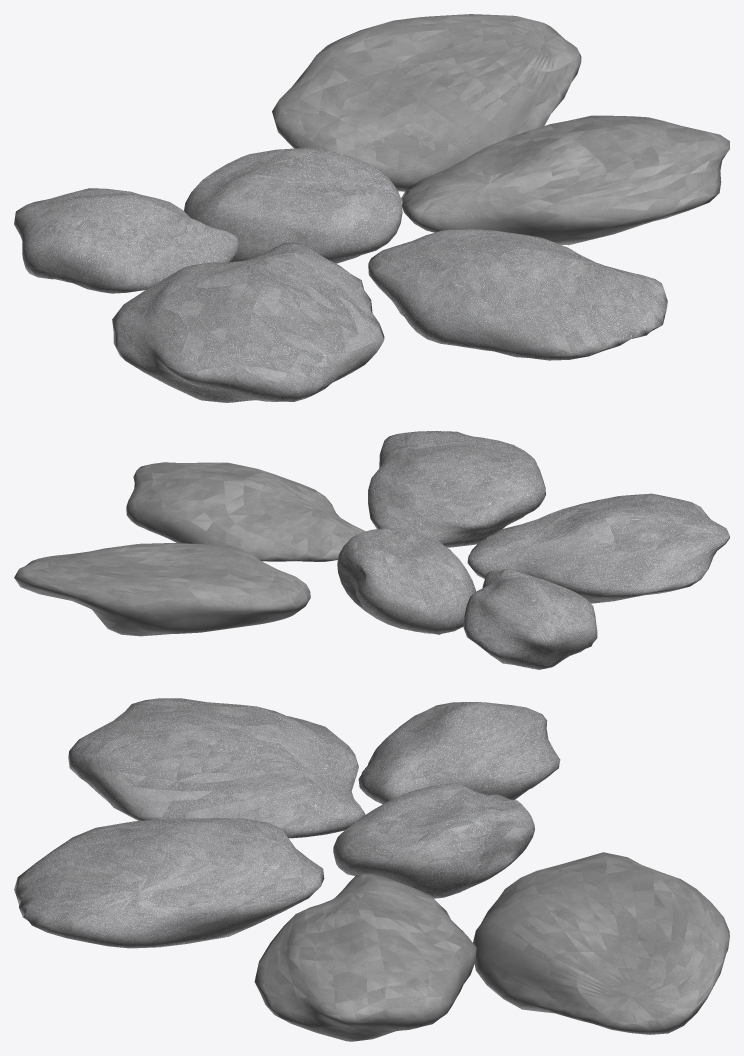
Rendered from rocks.dae.
3 renders of one model, top to bottom at view 1: azimuth 30°, elevation 25°; view 2: azimuth 150°, elevation 25°; view 3: azimuth 270°, elevation 25°, orthographic. The views are drawn at different scales.
Visible parts, largest first — view 1: SketchUp_003, SketchUp_002, SketchUp, SketchUp_001, SketchUp_004, SketchUp_005; view 2: SketchUp_003, SketchUp_002, SketchUp, SketchUp_001, SketchUp_004, SketchUp_005; view 3: SketchUp_003, SketchUp_001, SketchUp_002, SketchUp, SketchUp_004, SketchUp_005.
Part boxes in pixels (x1,y1,x2,y2): SketchUp_003: (272, 14, 581, 191); SketchUp_002: (112, 242, 384, 402); SketchUp: (401, 115, 729, 245); SketchUp_001: (368, 229, 667, 360); SketchUp_004: (184, 148, 402, 263); SketchUp_005: (14, 188, 239, 293); SketchUp_003: (14, 543, 310, 636); SketchUp_002: (467, 493, 729, 603); SketchUp: (126, 462, 365, 561); SketchUp_001: (368, 431, 545, 547); SketchUp_004: (337, 528, 476, 634); SketchUp_005: (463, 569, 597, 669); SketchUp_003: (473, 852, 729, 1034); SketchUp_001: (14, 818, 324, 948); SketchUp_002: (68, 698, 365, 838); SketchUp: (254, 873, 476, 1041); SketchUp_004: (333, 782, 534, 898); SketchUp_005: (358, 702, 560, 804).
Bounding box in the file's own units: 0.7502 × 0.7093 × 0.0975.
2 materials, 1 textured.
